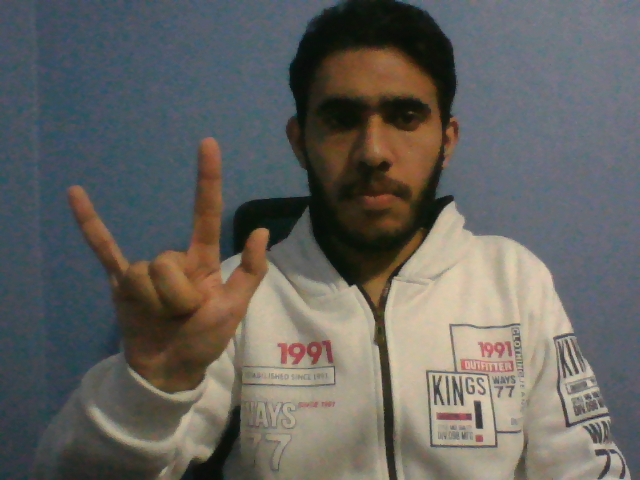iloveyou: (63, 133, 271, 388)
